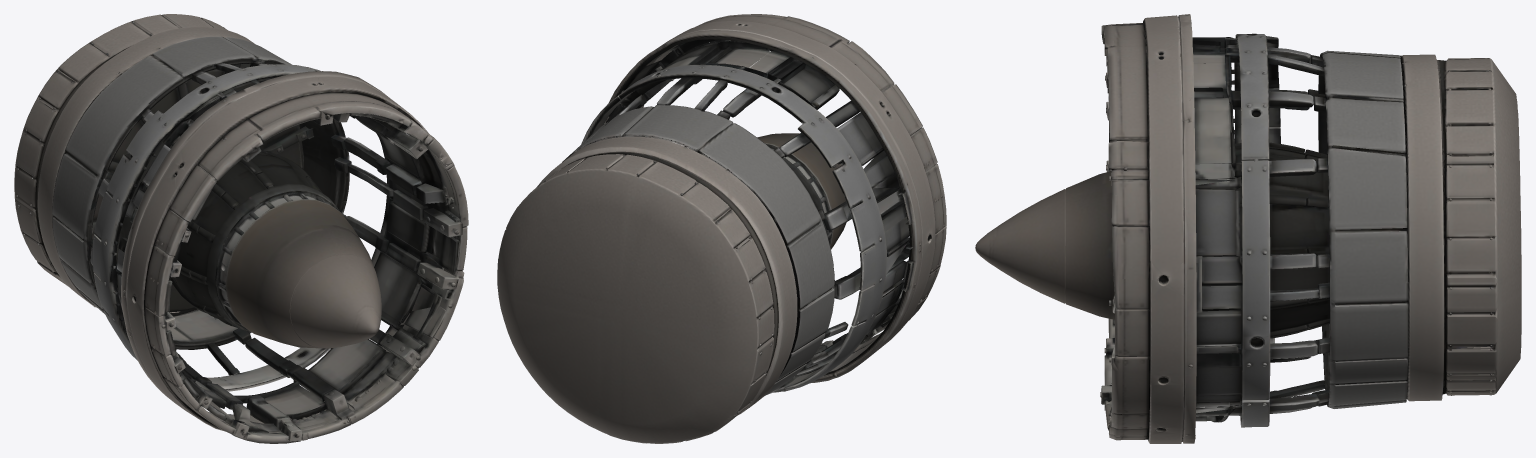
The model's file is rocket+nozzle+3d+model.fbx.
3 views of the same model, side by side, from view 1: azimuth 30°, elevation 25°; view 2: azimuth 150°, elevation 25°; view 3: azimuth 270°, elevation 25° (orthographic). The views are drawn at different scales.
Parts seen in each view (by area): view 1: a8c59b2c_c8f4_49be_af64_b82fecdc4f57; view 2: a8c59b2c_c8f4_49be_af64_b82fecdc4f57; view 3: a8c59b2c_c8f4_49be_af64_b82fecdc4f57.
Boxes of the visible parts, left/top/right/bottom form: a8c59b2c_c8f4_49be_af64_b82fecdc4f57: left=14, top=14, right=468, bottom=443; a8c59b2c_c8f4_49be_af64_b82fecdc4f57: left=497, top=14, right=946, bottom=443; a8c59b2c_c8f4_49be_af64_b82fecdc4f57: left=975, top=14, right=1521, bottom=443.
Bounding box in the file's own units: 0.7661 × 0.7788 × 0.9995.
Materials: 1 (1 with a texture image).
